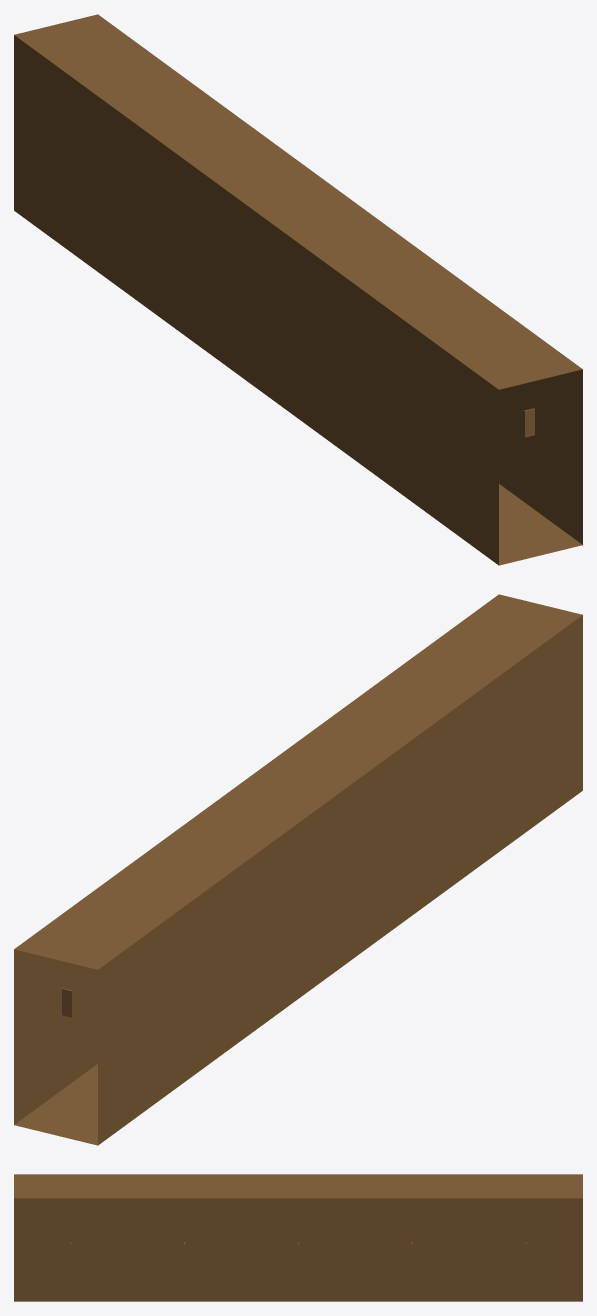
File: creepy hallway 1.fbx
The picture shows the model from 3 angles, top to bottom: view 1: azimuth 30°, elevation 25°; view 2: azimuth 150°, elevation 25°; view 3: azimuth 270°, elevation 25°; orthographic projection. The views are drawn at different scales.
Visible parts, largest first — view 1: wall2, ceiling, wall1, floor; view 2: wall2, ceiling, wall1, floor; view 3: wall1, ceiling.
Part boxes in pixels (x1=…): wall2: x1=14, y1=35, x2=498, y2=565; ceiling: x1=14, y1=14, x2=582, y2=389; wall1: x1=499, y1=369, x2=582, y2=544; floor: x1=499, y1=484, x2=582, y2=565; wall2: x1=98, y1=615, x2=582, y2=1145; ceiling: x1=14, y1=594, x2=582, y2=969; wall1: x1=14, y1=949, x2=97, y2=1124; floor: x1=14, y1=1064, x2=97, y2=1145; wall1: x1=14, y1=1198, x2=582, y2=1301; ceiling: x1=14, y1=1174, x2=582, y2=1198.
Size of the model in its own units: 5.4 by 10 by 50.
